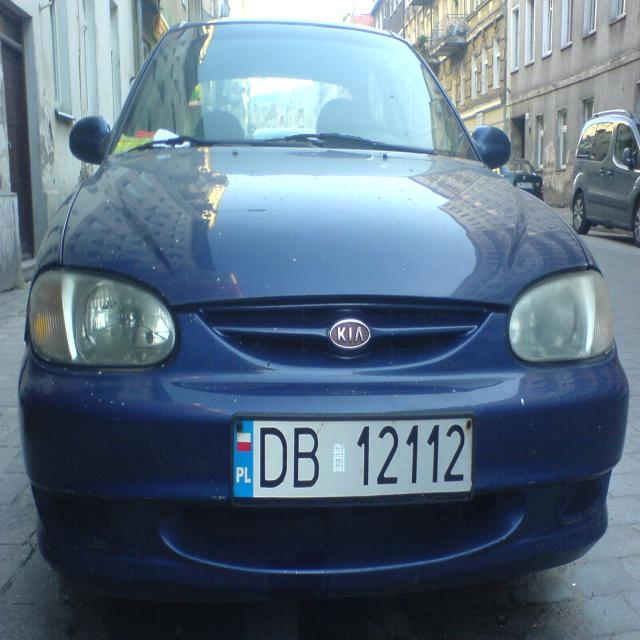pl_license_plate: (232, 415, 472, 497)
